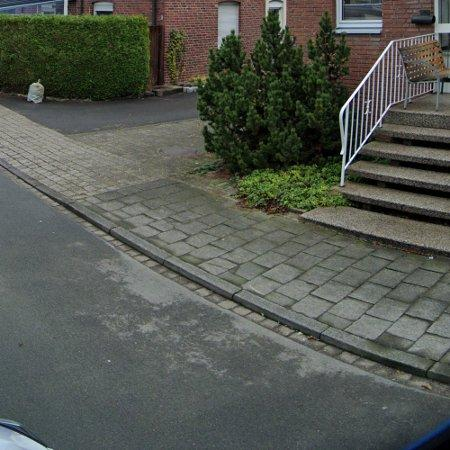stairs: (304, 96, 450, 255)
